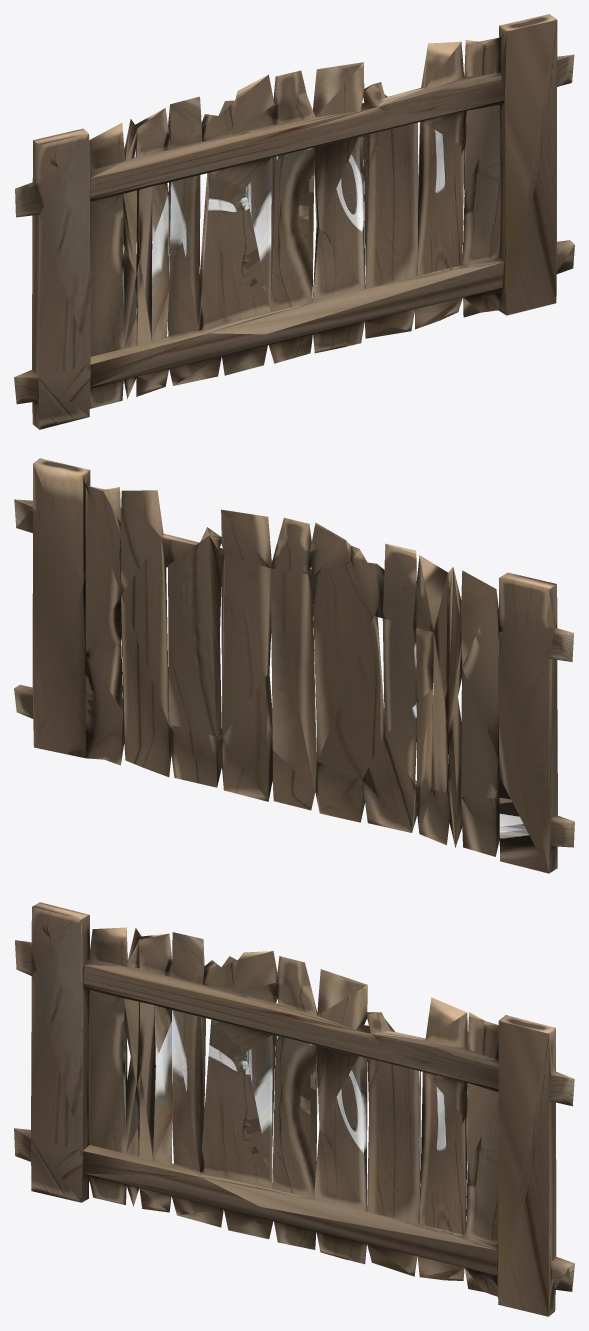
Rendered from fence-wood.glb.
3 views of the same model, one above another, from view 1: azimuth 30°, elevation 25°; view 2: azimuth 150°, elevation 25°; view 3: azimuth 330°, elevation 25° (orthographic).
Visible parts, largest first — view 1: SM_fence-wood; view 2: SM_fence-wood; view 3: SM_fence-wood.
Boxes of the visible parts, x1,y1,x2,y2 form: SM_fence-wood: [14, 14, 574, 429]; SM_fence-wood: [14, 458, 574, 873]; SM_fence-wood: [14, 902, 574, 1316].
Bounding box in the file's own units: 4 × 2 × 0.102.
1 material, 1 textured.
